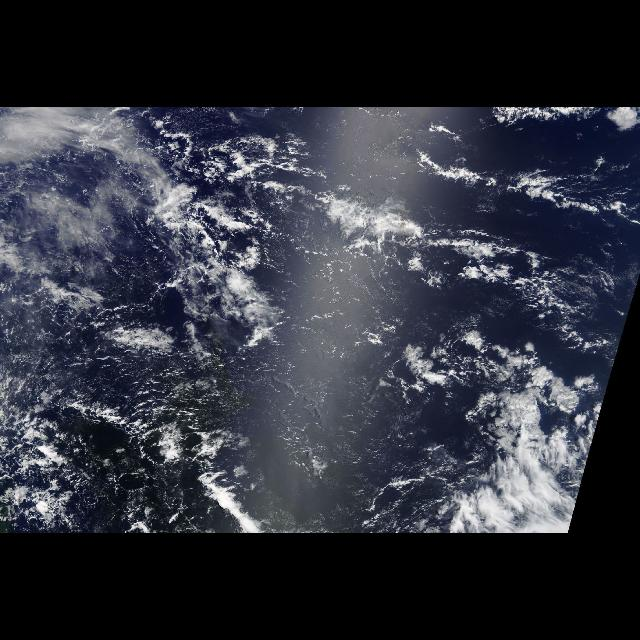Fish: (306, 155, 608, 281)
Gravel: (40, 328, 226, 460)
